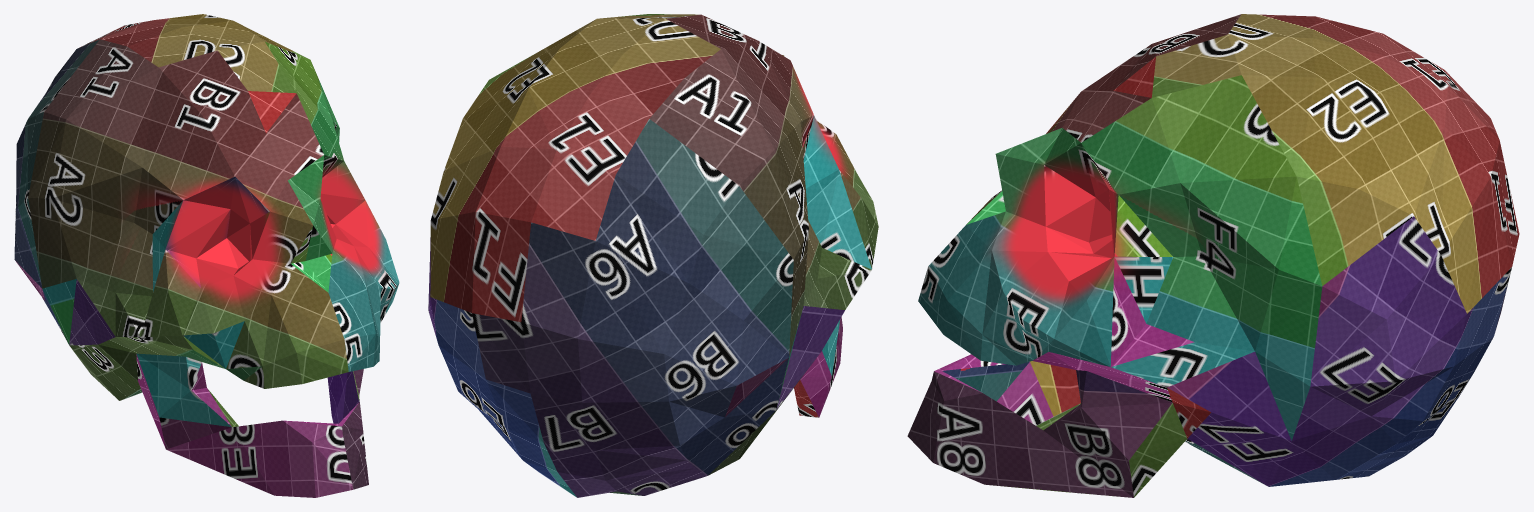
Rendered from SkullLow.dae.
3 renders of one model, left to right at view 1: azimuth 30°, elevation 25°; view 2: azimuth 150°, elevation 25°; view 3: azimuth 270°, elevation 25°, orthographic. The views are drawn at different scales.
Visible parts, largest first — view 1: SkullLow; view 2: SkullLow; view 3: SkullLow.
Boxes of the visible parts, x1,y1,x2,y2 form: SkullLow: [14, 14, 399, 497]; SkullLow: [428, 14, 878, 497]; SkullLow: [907, 14, 1519, 497].
Size of the model in its own units: 0.1572 by 0.2361 by 0.182.
1 material, 1 textured.
